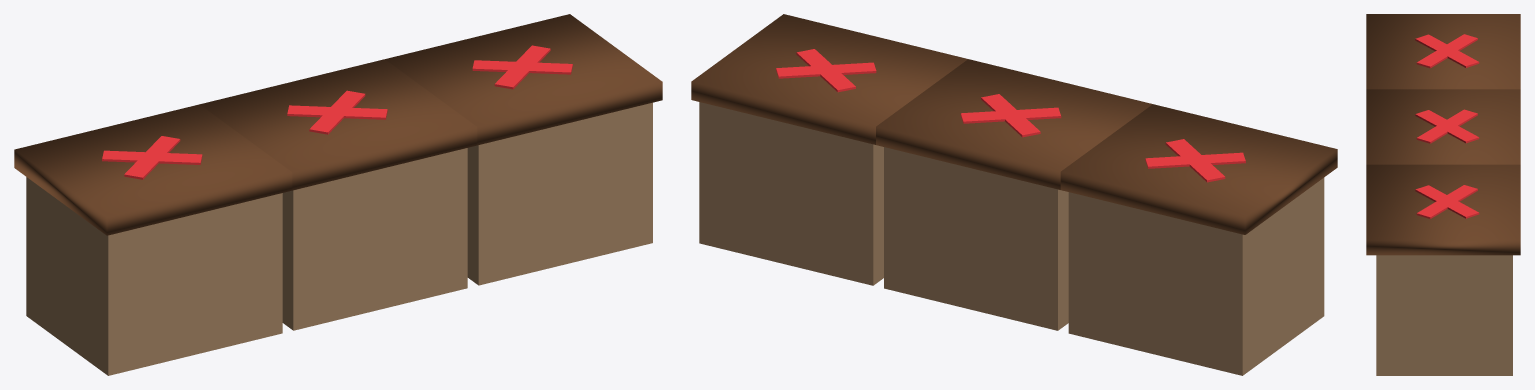
File: counter.glb
The picture shows the model from 3 angles, left to right: view 1: azimuth 30°, elevation 25°; view 2: azimuth 150°, elevation 25°; view 3: azimuth 270°, elevation 25°; orthographic projection. The views are drawn at different scales.
Visible parts, largest first — view 1: Cube.002; view 2: Cube.002; view 3: Cube.002.
Boxes of the visible parts, x1,y1,x2,y2 form: Cube.002: [14, 14, 662, 375]; Cube.002: [691, 14, 1337, 375]; Cube.002: [1366, 14, 1520, 375].
Size of the model in its own units: 7.82 by 2.25 by 2.26.
